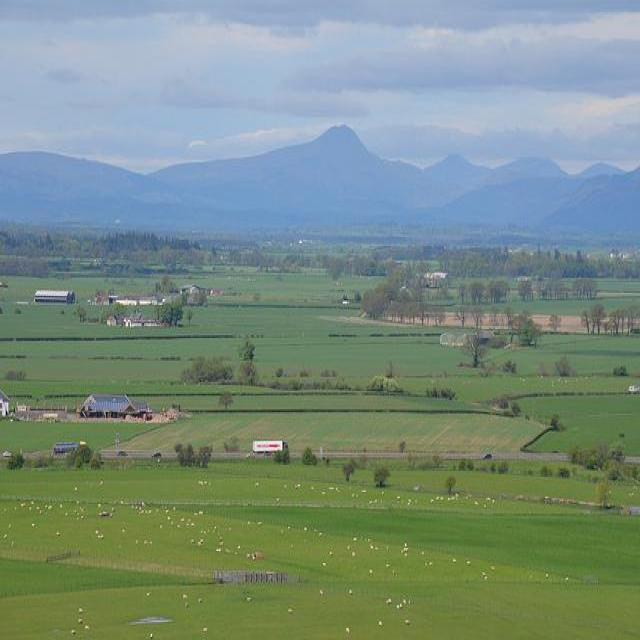Sheep: (1, 368, 639, 638)
